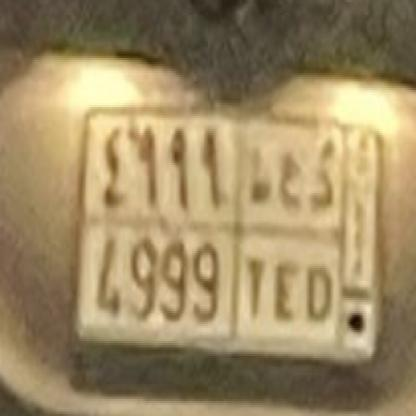english: (68, 210, 339, 349)
